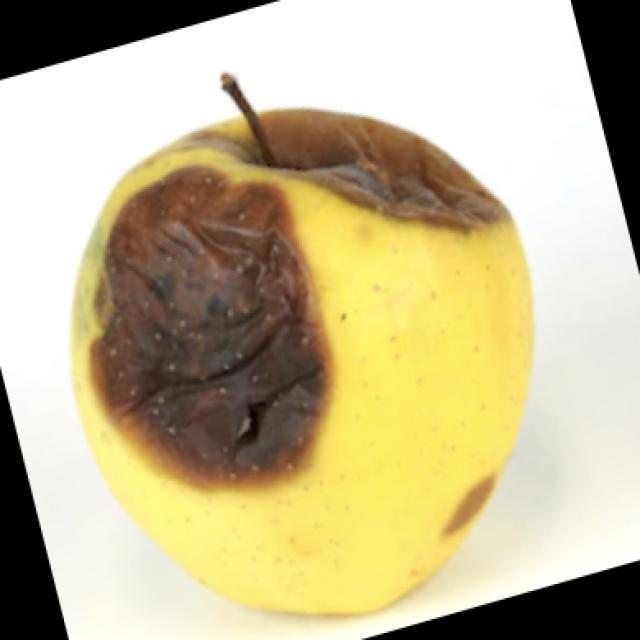Rotten: (74, 99, 524, 624)
